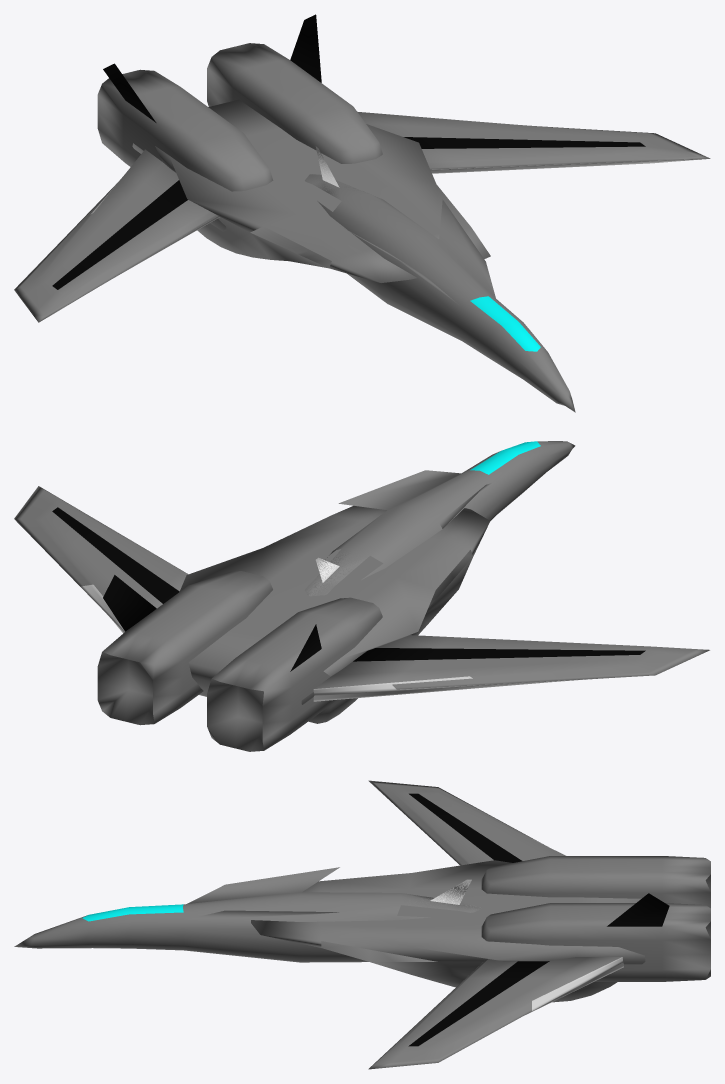
The model's file is fighter.fbx.
3 renders of one model, top to bottom at view 1: azimuth 30°, elevation 25°; view 2: azimuth 150°, elevation 25°; view 3: azimuth 270°, elevation 25°, orthographic. The views are drawn at different scales.
Visible parts, largest first — view 1: engin_rig.002, body.002, neck.002, wing_rig.002, wing_lef.002; view 2: engin_rig.002, body.002, wing_rig.002, neck.002, wing_lef.002; view 3: engin_rig.002, neck.002, body.002, wing_lef.002, wing_rig.002.
Part boxes in pixels (x1,y1,x2,y2): engin_rig.002: [97, 14, 382, 231]; body.002: [132, 99, 490, 282]; neck.002: [305, 146, 575, 412]; wing_rig.002: [14, 149, 219, 322]; wing_lef.002: [357, 111, 710, 173]; engin_rig.002: [97, 571, 382, 751]; body.002: [179, 505, 490, 723]; wing_rig.002: [313, 635, 709, 701]; neck.002: [305, 441, 575, 596]; wing_lef.002: [14, 486, 188, 633]; engin_rig.002: [481, 856, 710, 981]; neck.002: [14, 867, 481, 962]; body.002: [251, 860, 645, 1002]; wing_lef.002: [368, 957, 623, 1069]; wing_rig.002: [368, 780, 565, 865].
Bounding box in the file's own units: 1025 × 206 × 1045.
